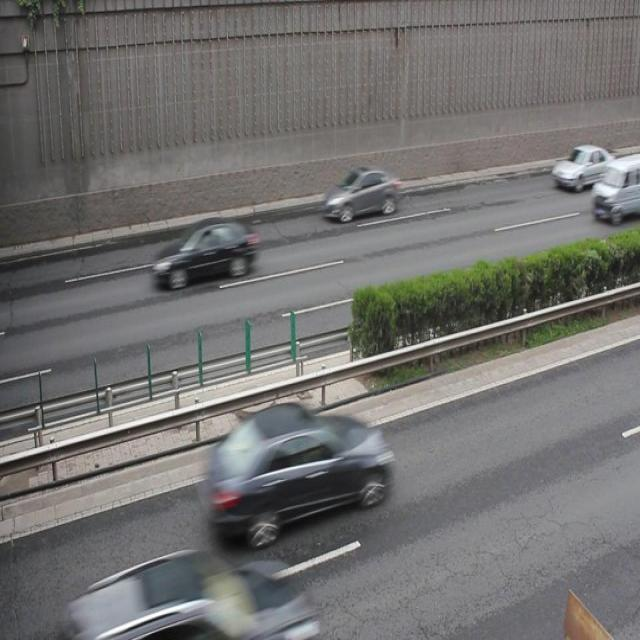car: (201, 402, 393, 544), (85, 548, 306, 640), (150, 218, 257, 288), (321, 164, 398, 220), (548, 143, 616, 189)
truck: (590, 155, 640, 221)
